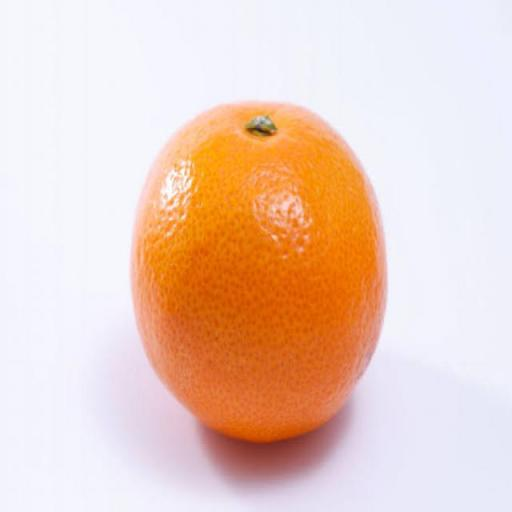fruit: (132, 103, 386, 441)
